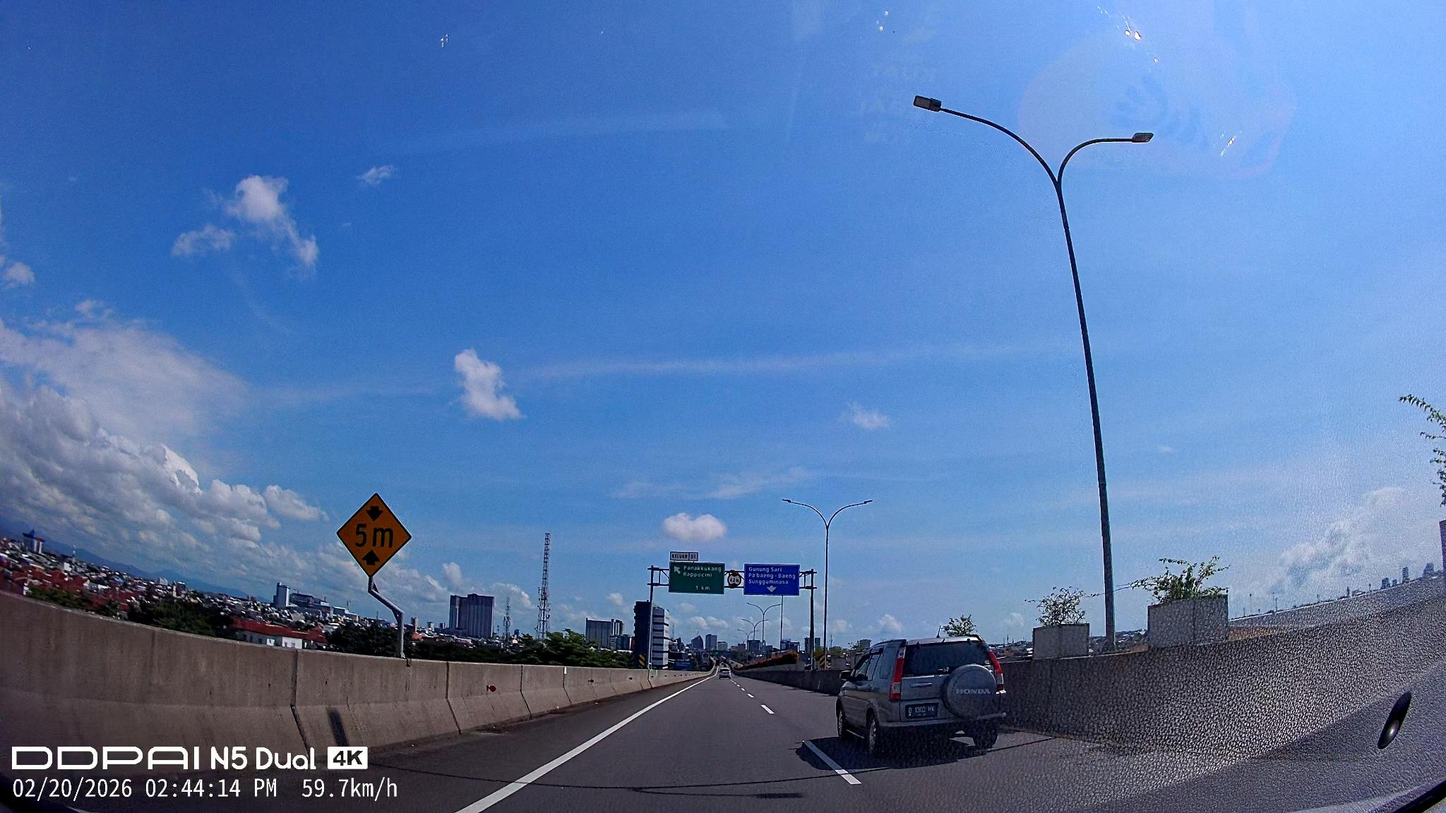rambu_teks: (669, 561, 725, 594), (744, 563, 799, 596)
